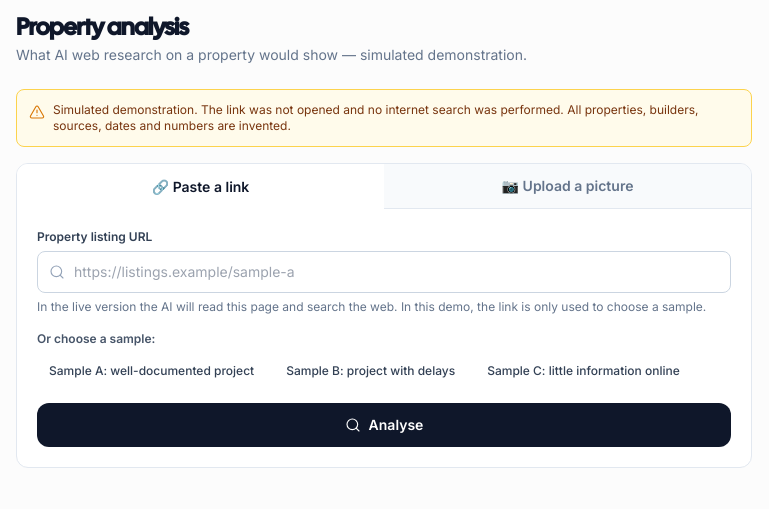
it: PropertyAnalysisPage – demo mode › picture tab: shows file input and helper text
This screenshot has width=769, height=509.
Click the tab "📷 Upload a picture" at (568, 186), box [384, 164, 751, 208]
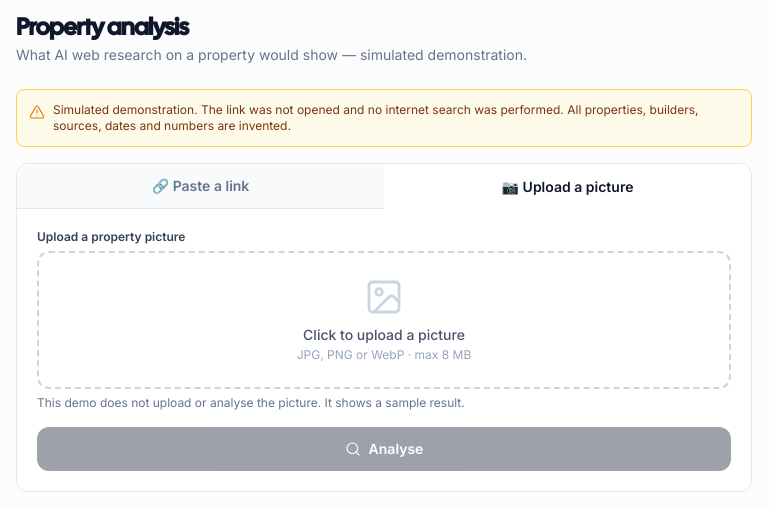
Expected: the text "This demo does not upload or analyse the picture" is shown, [37, 395, 465, 410]
